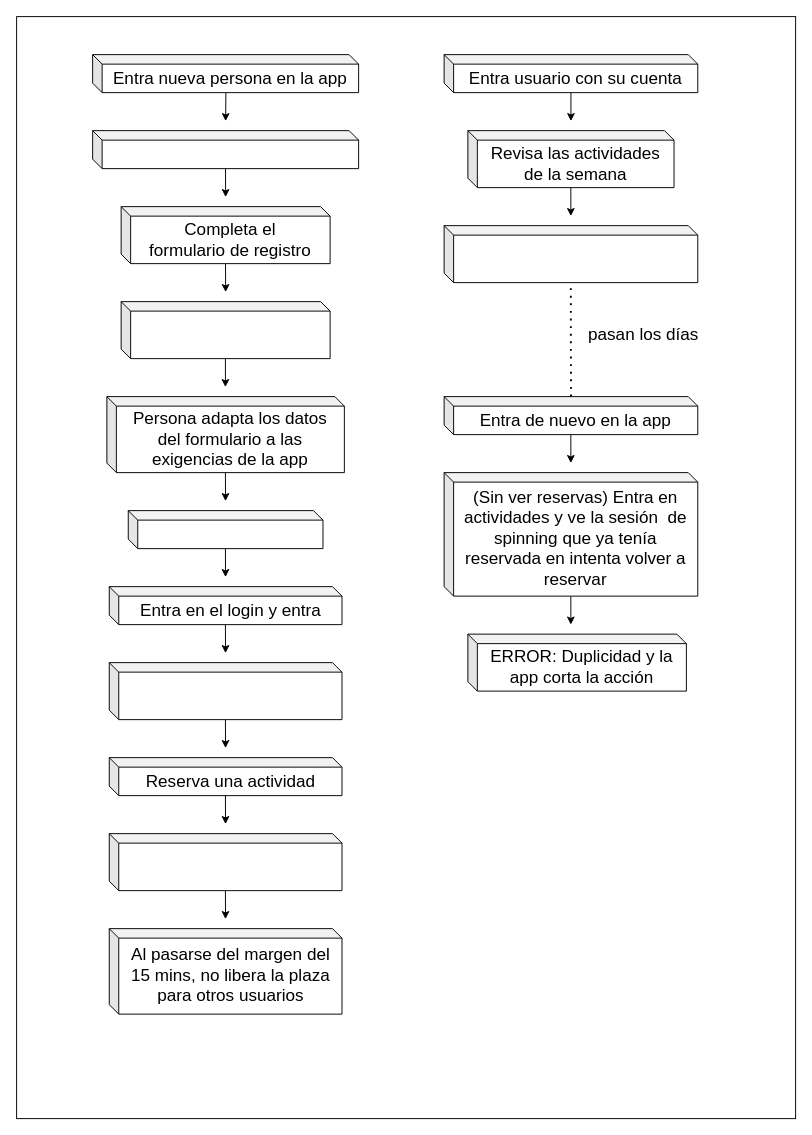
Image size: 812x1135. Some labels were removed from this diagram. Each missing label, with the centre of its shape:
2 mins antes de que empiece quiere cancelar: the point at 225,862
Entra en la sección de Sign Up: the point at 225,149
ERROR: Contraseña con formato inválido: the point at 225,330
Registro exitoso: the point at 225,529
Reserva una sesión de spining el 12/03 a las 12:00: the point at 570,254
Revisa actividades disponibles: the point at 225,691
